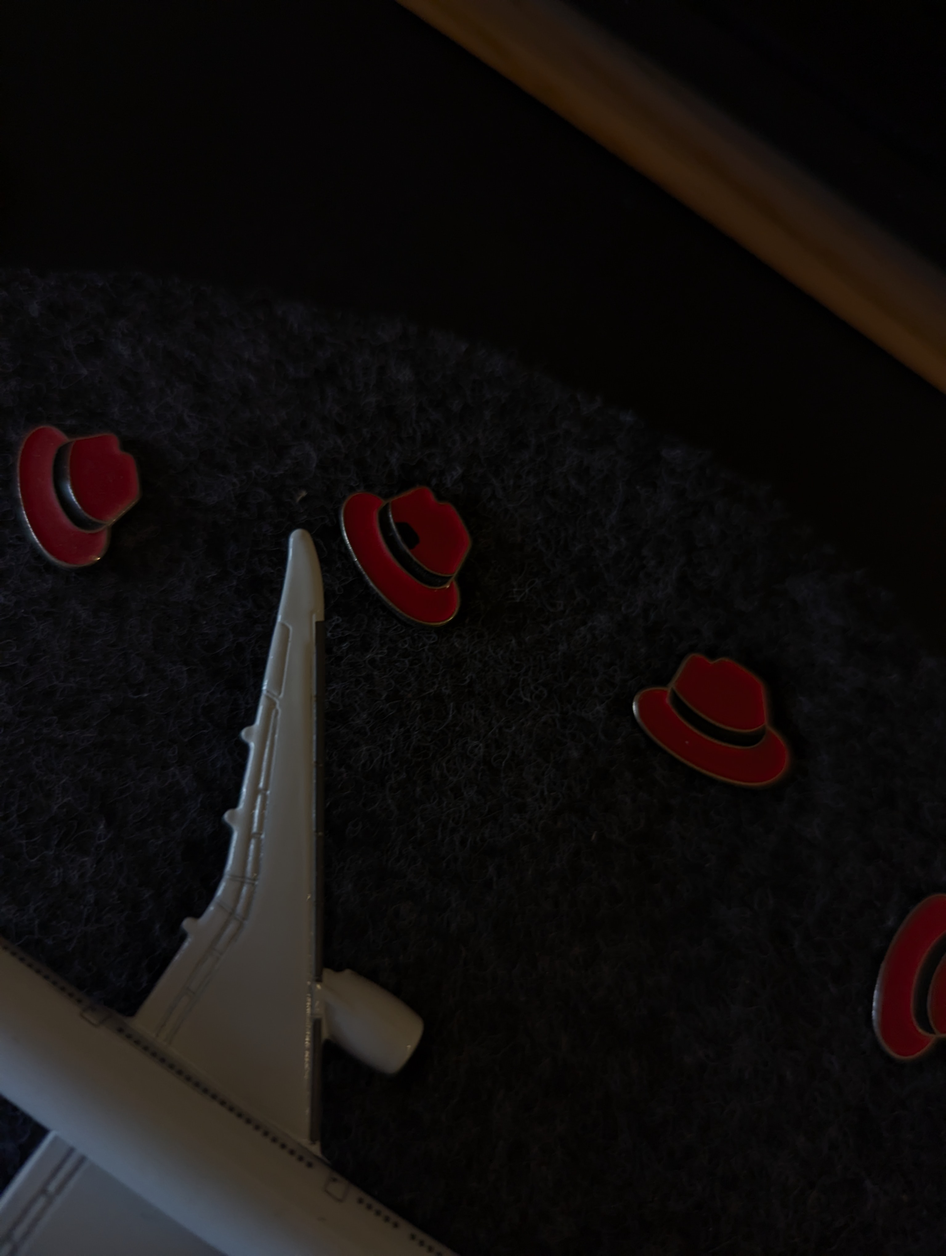Airplane: (0, 521, 506, 1256)
Red-Hat: (618, 613, 811, 809), (2, 401, 162, 594), (328, 458, 487, 650), (854, 855, 946, 1081)
Scratch: (385, 505, 425, 555)
